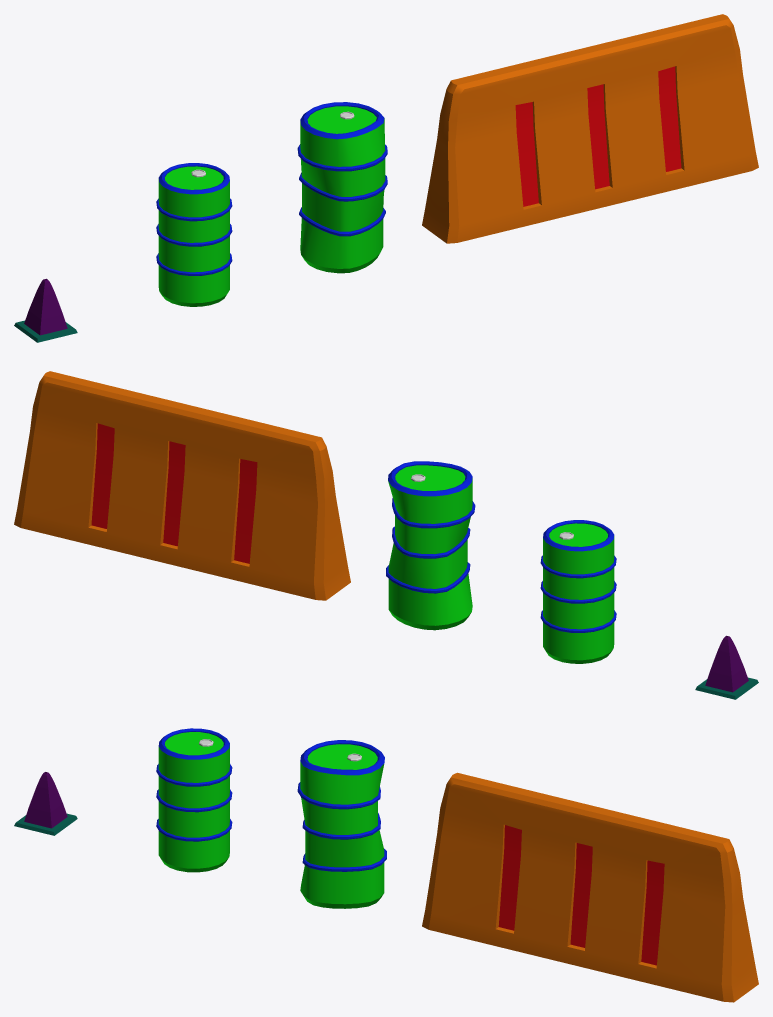
The model's file is PropsID.fbx.
3 views of the same model, one above another, from view 1: azimuth 30°, elevation 25°; view 2: azimuth 150°, elevation 25°; view 3: azimuth 330°, elevation 25° (orthographic).
Parts seen in each view (by area): view 1: Barrier1, Dented_Barrel, Barrel, Cone; view 2: Barrier1, Dented_Barrel, Barrel, Cone; view 3: Barrier1, Dented_Barrel, Barrel, Cone.
Part boxes in pixels (left/top/right/bottom): Barrier1: left=422, top=14, right=758, bottom=243; Dented_Barrel: left=297, top=102, right=387, bottom=273; Barrel: left=156, top=163, right=232, bottom=306; Cone: left=14, top=278, right=77, bottom=342; Barrier1: left=14, top=371, right=350, bottom=600; Dented_Barrel: left=386, top=461, right=475, bottom=630; Barrel: left=540, top=520, right=616, bottom=663; Cone: left=695, top=635, right=758, bottom=699; Barrier1: left=422, top=772, right=758, bottom=1002; Dented_Barrel: left=297, top=740, right=386, bottom=908; Barrel: left=156, top=728, right=232, bottom=872; Cone: left=14, top=772, right=77, bottom=835.
Bounding box in the file's own units: 7.29 × 1.42 × 0.7926.
